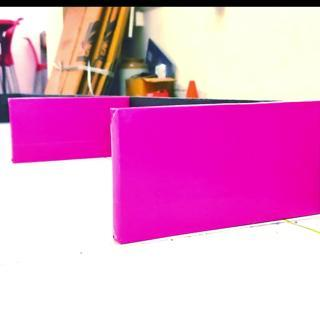xparking: (113, 109, 320, 223), (10, 97, 109, 164)
